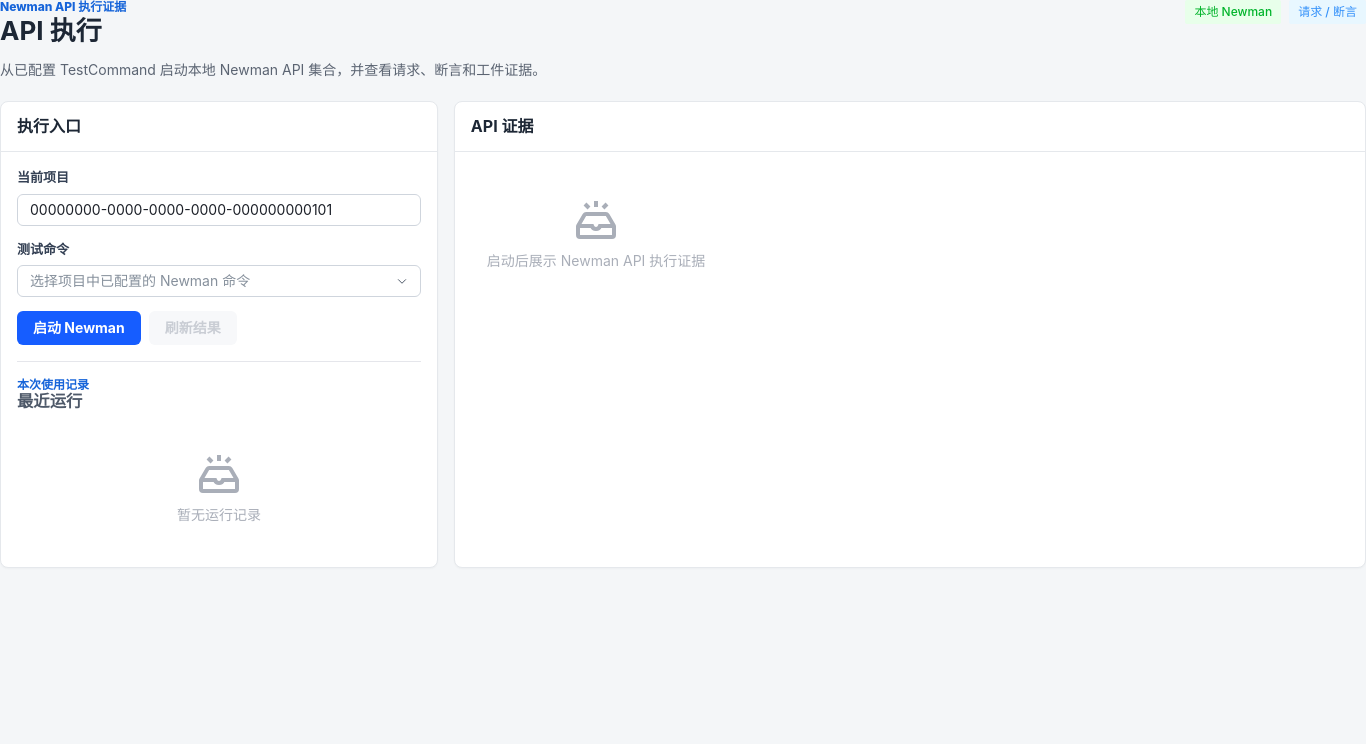
NewmanExecutionView › starts and refreshes a Newman run with API assertion evidence
Step 1. Replace the text in the field labelled "测试命令" with "00000000-0000-0000-0000-000000000321" → {"x": 219, "y": 268}, box [17,240,421,297]
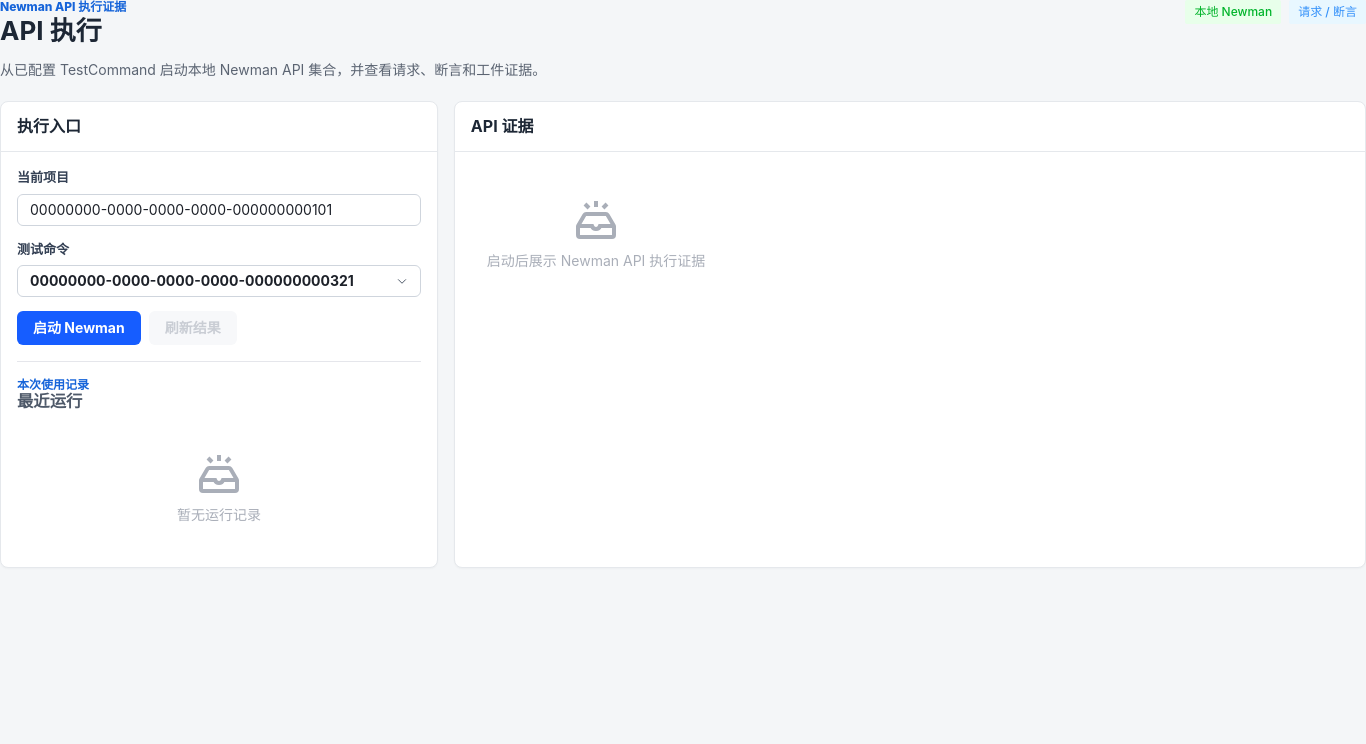
Step 2. Submit the form, box [17,168,421,345]
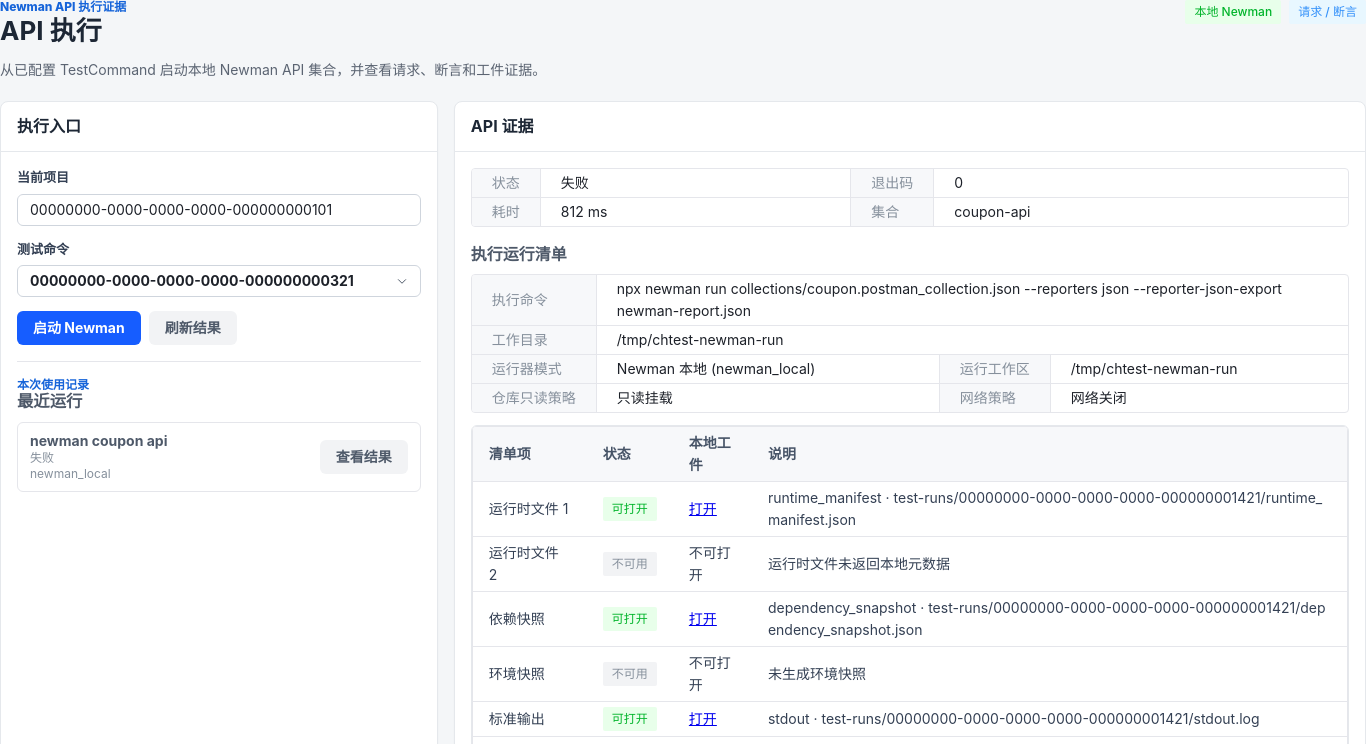
Expected: the text "失败" is shown, [30,450,54,466]
Expected: the text "coupon-api" is shown, [934,198,1348,226]
Expected: the text "/tmp/chtest-newman-run" is shown, [596,325,1348,354]
Step 3. Click the button with test id "refresh-newman-run" → {"x": 193, "y": 328}, box [149,311,237,345]
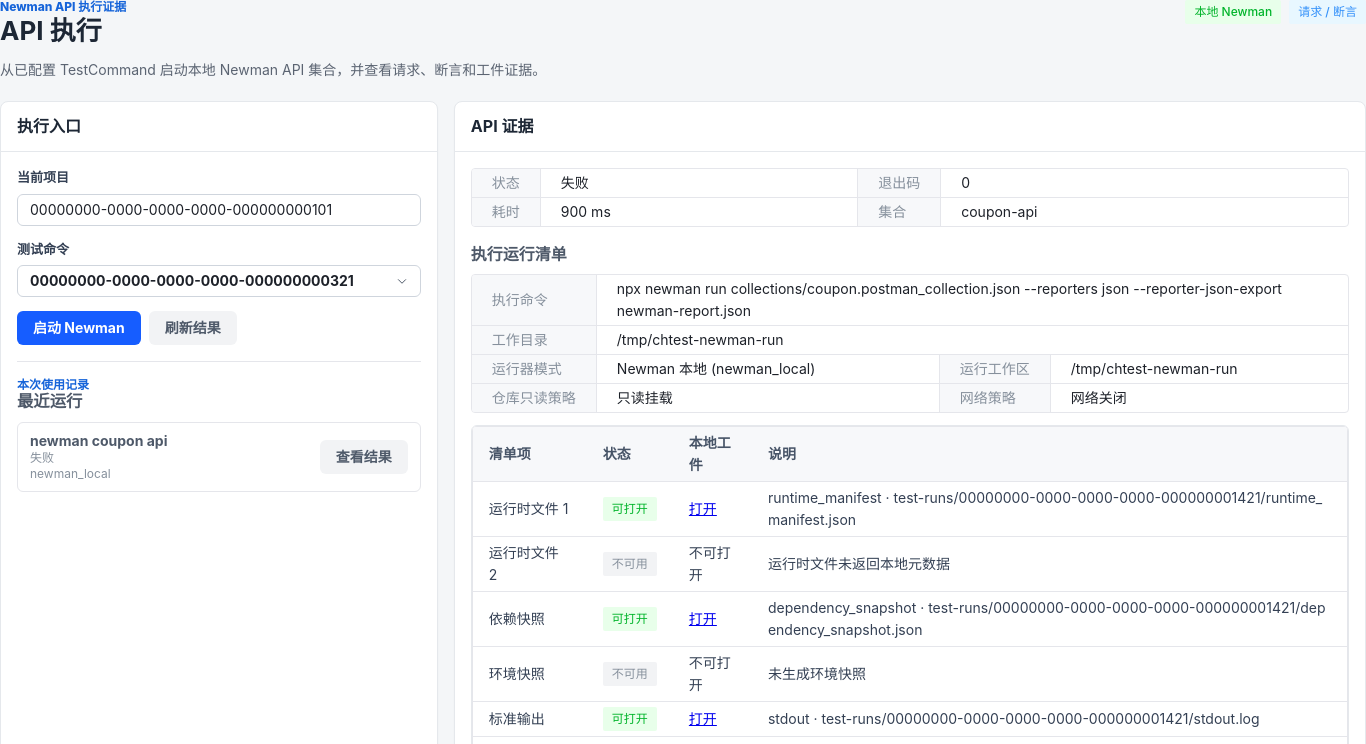
Expected: the text "900 ms" is shown, [540,198,858,226]
